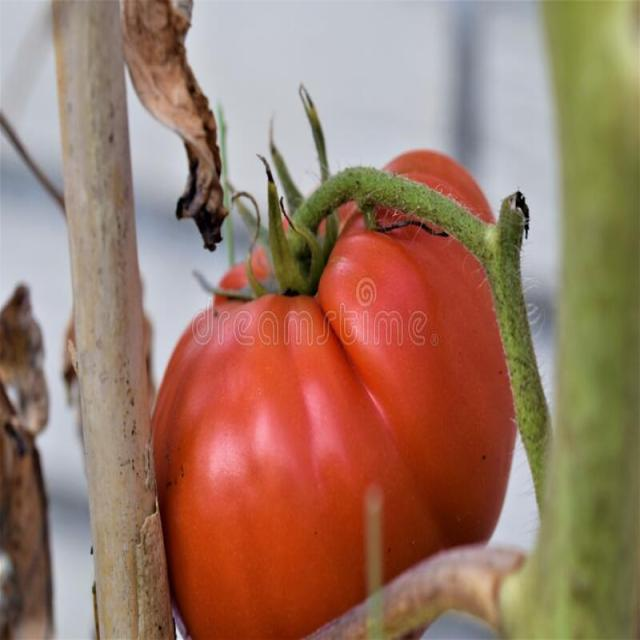kirmizi: (140, 122, 534, 640)
